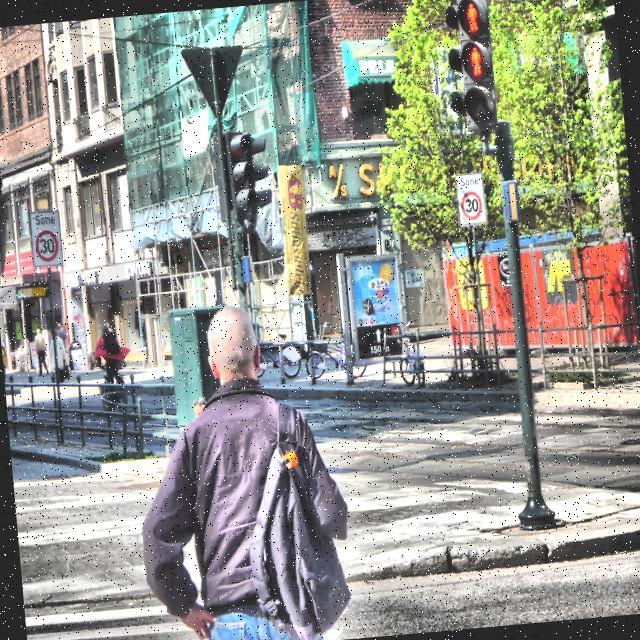red_light: (468, 46, 483, 76), (465, 1, 479, 33)
